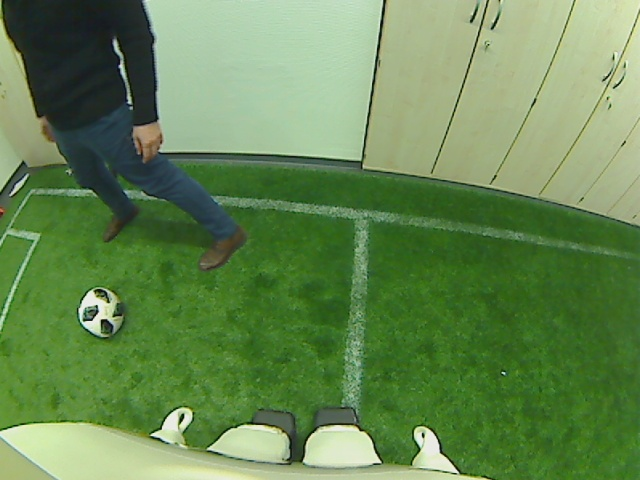ball: (76, 286, 122, 339)
